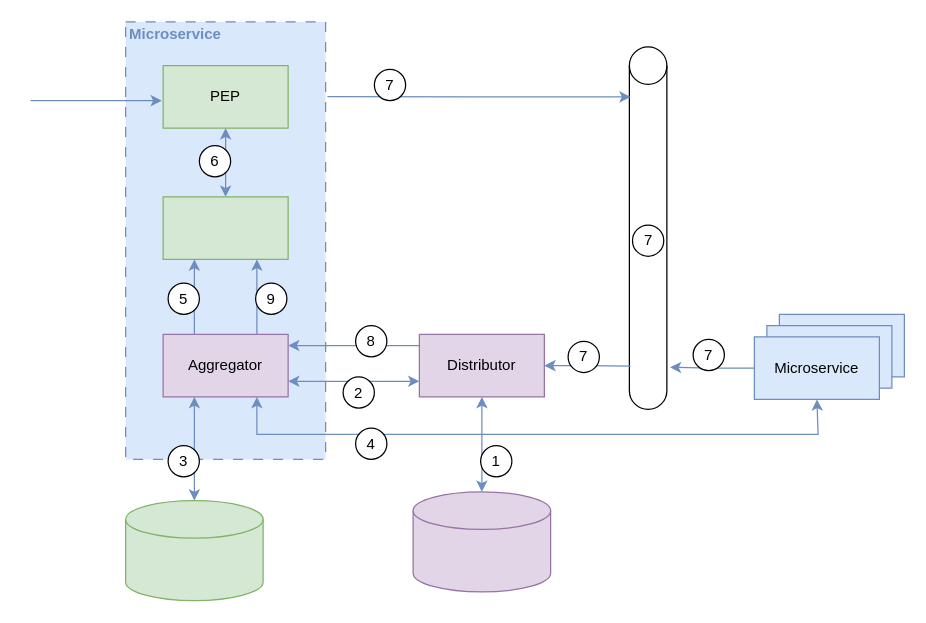
This 926x623 diagram has some shape labels left out. Here are the shapes that lost their labels. From the top down, the box of each, then its label:
(162, 196, 288, 259): PDP
(124, 499, 263, 601): Policy Repository
(412, 491, 551, 592): Configuration Repository
